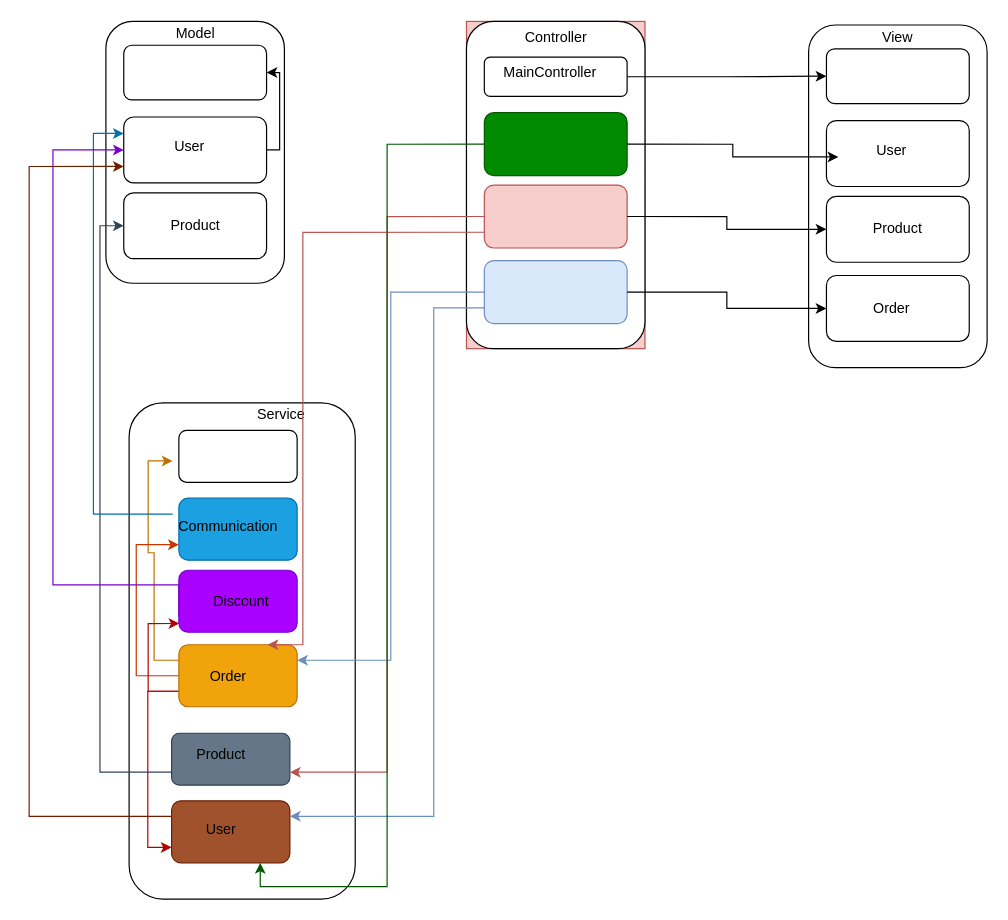
This 1008x920 diagram has some shape labels left out. The box of each missing label's shape, as (x1, y1, x2, y2) in pixels:
Billing: (178, 429, 297, 482)
Main: (825, 48, 969, 104)
OrderController: (483, 259, 627, 324)
ProductController: (483, 184, 627, 248)
Role: (123, 44, 267, 100)
UserController: (483, 112, 627, 176)
